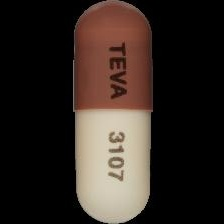55289-019: (0, 0, 224, 224)
